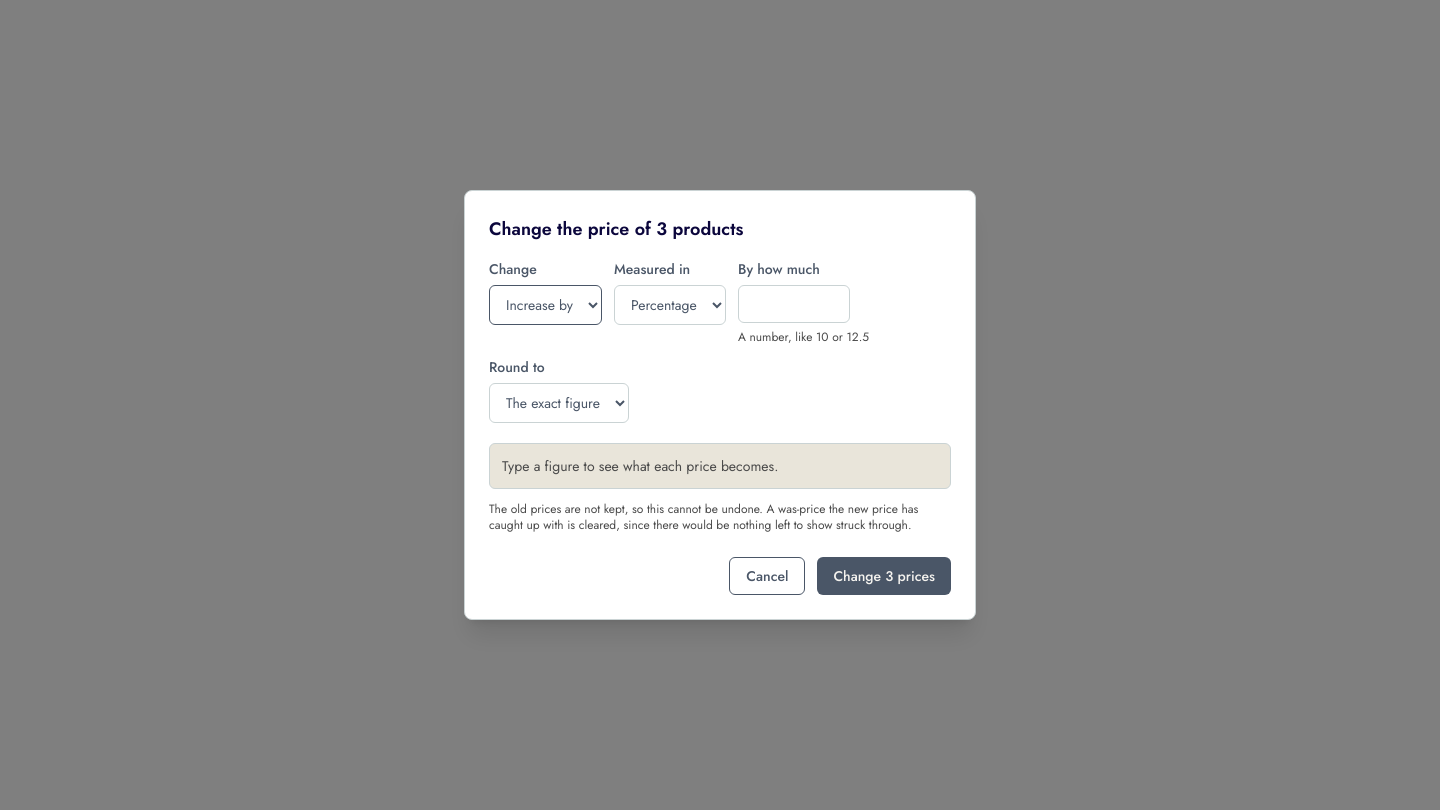
Test: BulkPriceDialog › takes a reduction off instead of adding it on
Select "Reduce by" in the dropdown labelled "Change". click: (546, 305)
box: [489,285,602,325]
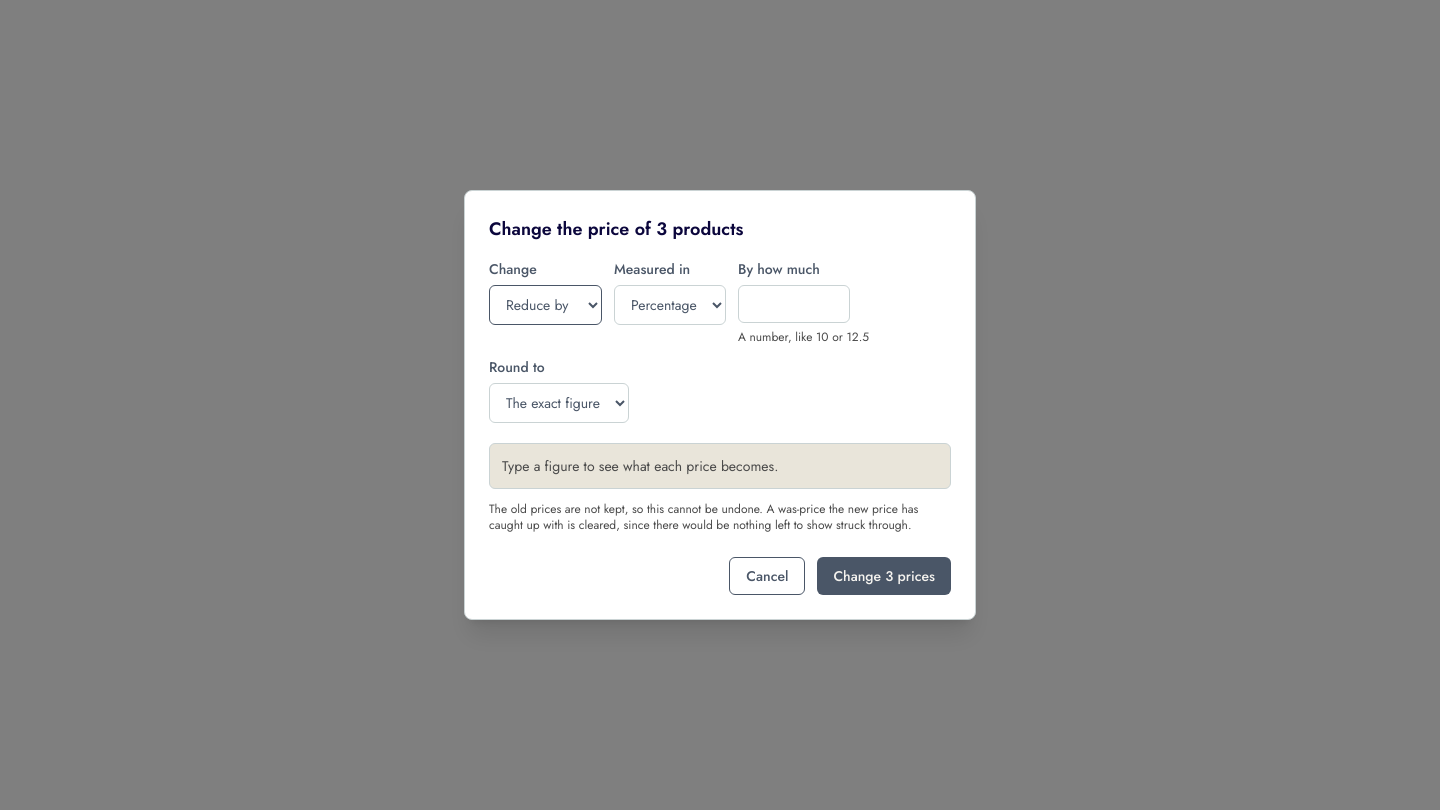
Type "10" into the field labelled "By how much". click: (794, 304)
box: [738,285,850,323]
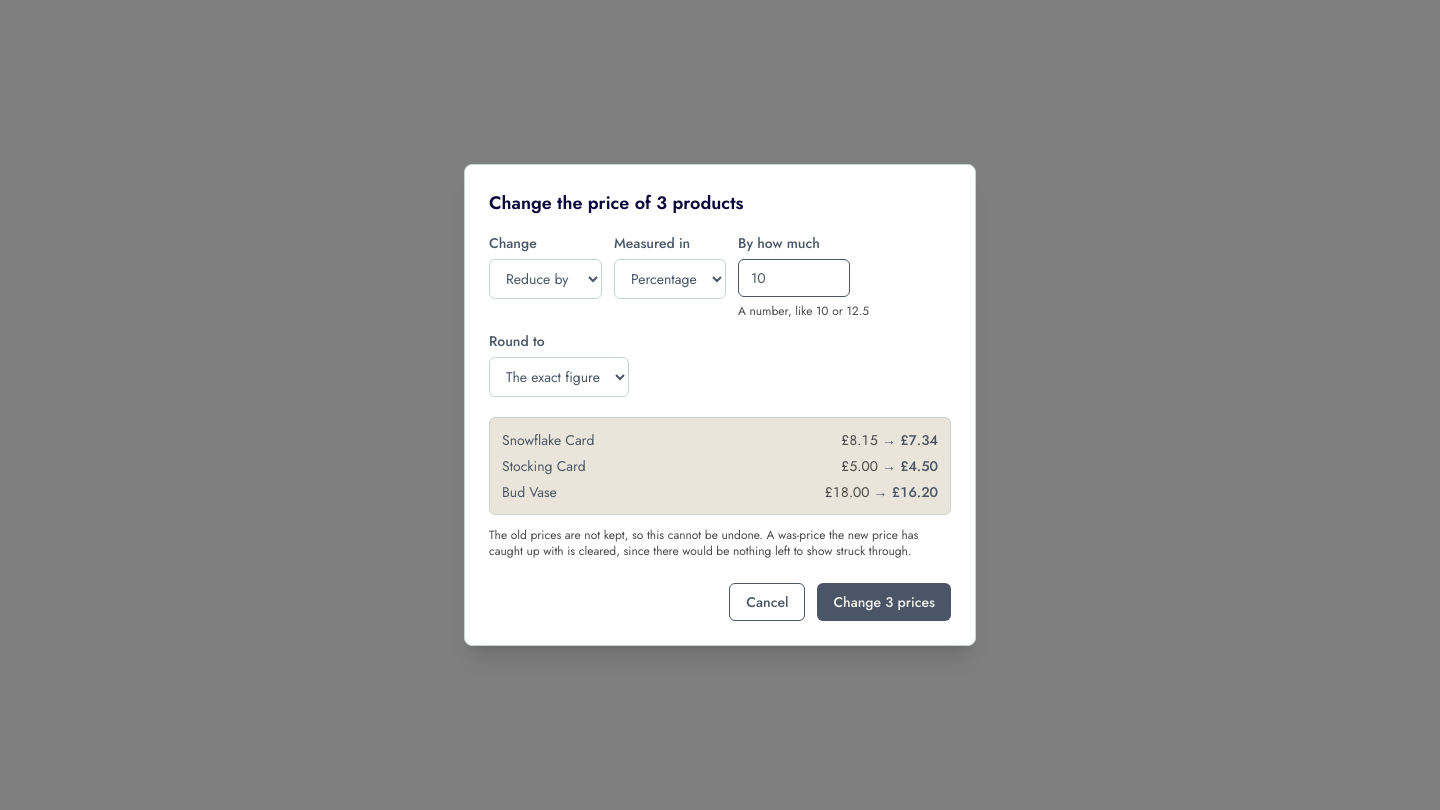
Now the text "£7.34" is shown, box [900,430,938,450]
